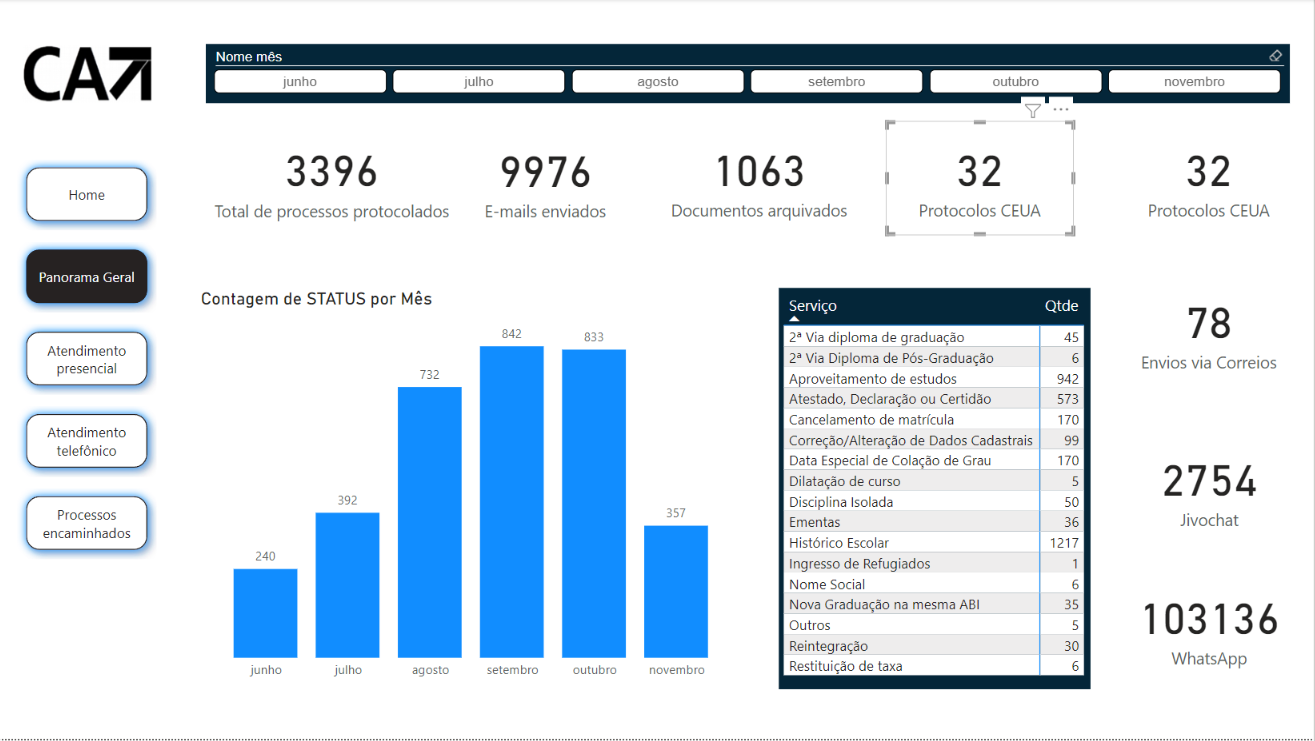

The page's visual inventory and layout, read from the dashboard file:
{"tool":"powerbi","page":{"name":"Outros","canvas":[1280,720],"ordinal":4},"visuals":[{"type":"card","fields":{"Values":["Medidas.Total arquivados"]},"box":[628.7,140.5,201.1,87.8],"z":0},{"type":"card","fields":{"Values":["Medidas.Total correios"]},"box":[1098.1,287.9,144,82.7],"z":1000},{"type":"card","fields":{"Values":["Medidas.Total usuários externos"]},"box":[1082.6,143.1,173.9,85.2],"z":2000},{"type":"card","fields":{"Values":["Medidas.Resposta emails"]},"box":[461,143.1,132.6,85.2],"z":3000},{"type":"card","fields":{"Values":["Medidas.Total jivochat"]},"box":[1094,428.5,151,84.3],"z":4000},{"type":"card","fields":{"Values":["Medidas.Total whatsapp"]},"box":[1086.4,587.5,166.3,94.3],"z":5000},{"type":"clusteredColumnChart","title":"Total de processos protocolados","fields":{"Y":["CountNonNull(Tabela de serviços.STATUS)"],"Category":["Calendario.Data.Variation.Hierarquia de datas.Mês1"]},"box":[200.8,281.5,528.8,389.4],"z":6000},{"type":"card","fields":{"Values":["Medidas.Total de registros protocolados"]},"box":[202,141.4,243.2,86.9],"z":7000},{"type":"image","box":[19.5,33.1,136.2,74.9],"z":8000},{"type":"pageNavigator","box":[19.3,173.9,136.1,393.4],"z":9000},{"type":"tableEx","title":"Documentos protocolados por serviço ","fields":{"Values":["Tabela de serviços.Serviço","CountNonNull(Tabela de serviços.STATUS)"]},"box":[752.8,272.3,310.3,398.8],"z":10000},{"type":"card","fields":{"Values":["Medidas.Total acumulado de Visualizações página em Visualizações página"]},"box":[882.4,143.1,164.2,85.2],"z":11000},{"type":"slicer","fields":{"Values":["Calendario.Data.Variation.Hierarquia de datas.Ano"]},"box":[200.8,32.4,103.5,61.4],"z":12000},{"type":"slicer","fields":{"Values":["Calendario.Data.Variation.Hierarquia de datas.Mês"]},"box":[306.2,34.6,946,57.3],"z":13000}]}

Visuals, with their boxes in screenshot pixels (x1, y1, x2, y2), scaled from the page's 1280x720 canvas onto the 1315x741 screenshot:
card - Medidas.Total arquivados: box(646, 145, 852, 235)
card - Medidas.Total correios: box(1128, 296, 1276, 381)
card - Medidas.Total usuários externos: box(1112, 147, 1291, 235)
card - Medidas.Resposta emails: box(474, 147, 610, 235)
card - Medidas.Total jivochat: box(1124, 441, 1279, 528)
card - Medidas.Total whatsapp: box(1116, 605, 1287, 702)
"Total de processos protocolados" clusteredColumnChart: box(206, 290, 750, 690)
card - Medidas.Total de registros protocolados: box(208, 146, 457, 235)
image: box(20, 34, 160, 111)
pageNavigator: box(20, 179, 160, 584)
"Documentos protocolados por serviço " tableEx: box(773, 280, 1092, 691)
card - Medidas.Total acumulado de Visualizações página em Visualizações página: box(907, 147, 1075, 235)
slicer - Calendario.Data.Variation.Hierarquia de datas.Ano: box(206, 33, 313, 97)
slicer - Calendario.Data.Variation.Hierarquia de datas.Mês: box(315, 36, 1286, 95)
